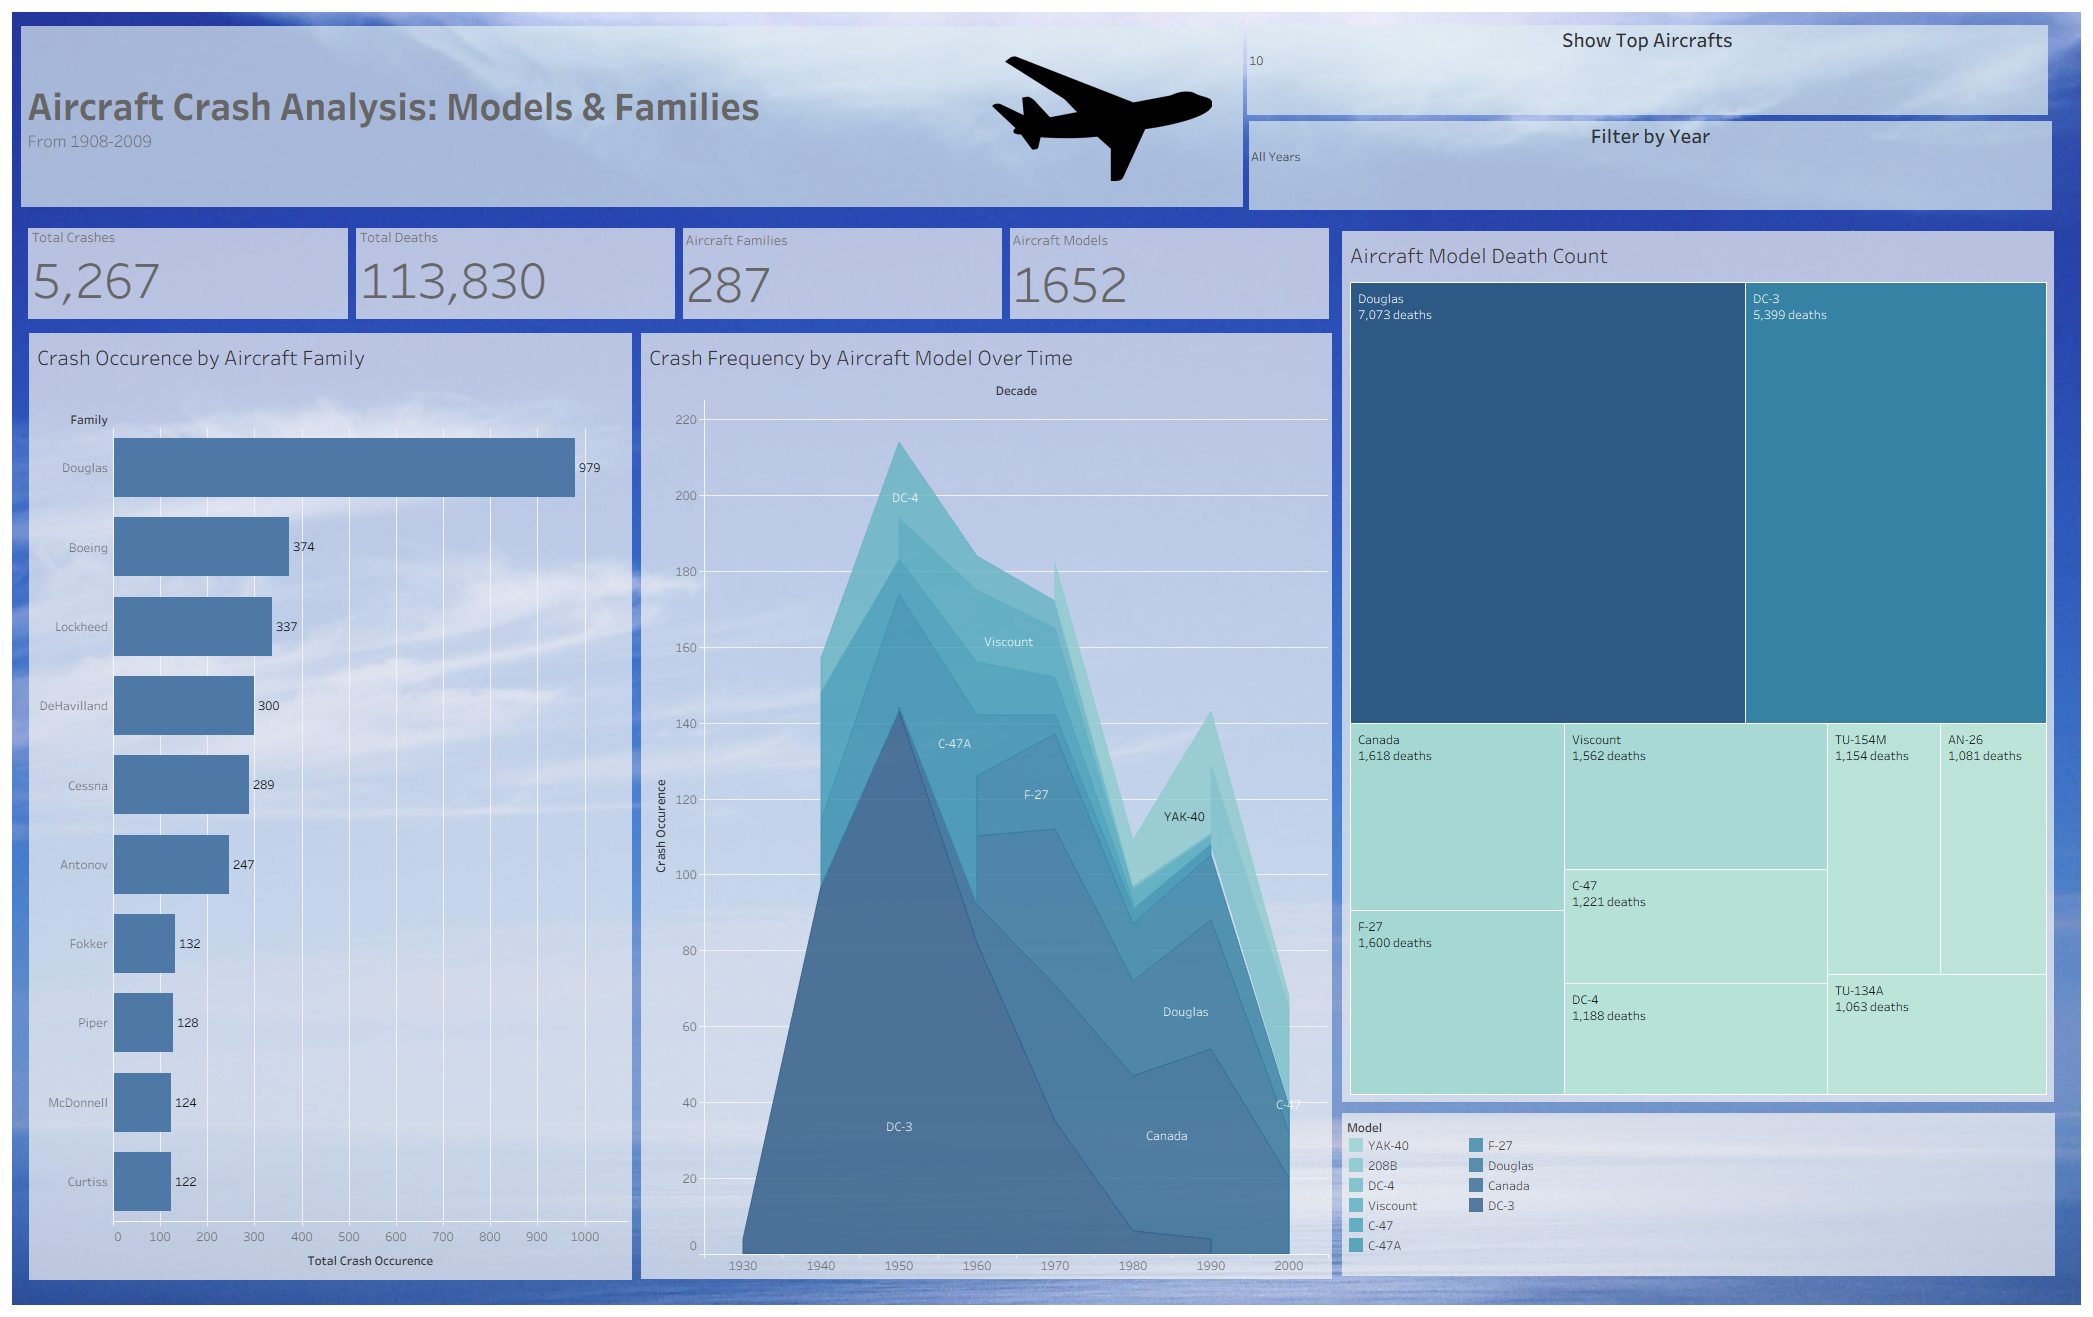

This screenshot's page, from the dashboard's own definition file:
{"tool":"tableau","page":{"name":"Q1 Dashboard","canvas":[1000,1000],"units":"permille","ordinal":0},"visuals":[{"type":"image","param":"Image/1266629-blue-sky-desktop-wallpaper-2560x1600-images.jpg","box":[3.8,6.2,992.4,987.6]},{"type":"parameter","param":"[Parameters].[Model Parameter]","box":[595.8,19.4,382.7,68.1]},{"type":"text","box":[10.2,19.5,583.9,137.8]},{"type":"image","param":"Image/Airplane_silhouette_S.png","box":[473.8,42.5,126.9,95.3]},{"type":"parameter","param":"[Parameters].[Parameter 1]","box":[596.8,92.1,383.7,67.3]},{"type":"worksheet","title":"Total Crashes","mark":"Automatic","box":[11.5,170.3,156.7,75.1]},{"type":"worksheet","title":"Total Deaths","mark":"Automatic","box":[168.2,170.3,156.2,75.1]},{"type":"text","box":[324.4,170.3,156.2,75.1]},{"type":"text","box":[480.7,170.3,156.2,75.1]},{"type":"worksheet","title":"Q1.1","mark":"Automatic","box":[641,175.7,340.4,661.3]},{"type":"worksheet","title":"Q1.0","mark":"Automatic","rows":["Calculation_496521908714770444 - Split 1"],"cols":["Sheet 1_09DF39BCF28D42AB8A171AA09CCD639A"],"box":[13.9,253.1,288.1,719]},{"type":"worksheet","title":"Q1.2","mark":"Area","rows":["Sheet 1_09DF39BCF28D42AB8A171AA09CCD639A"],"cols":["Calculation_496521908723781647"],"box":[306.3,253.1,330.2,718.3]},{"type":"legend","title":"Q1.2","param":"[federated.0e77pkq0gujv2219s9nzw0dl3phl].[none:Calculation_496521908714770444 - ","box":[641,845,340.9,124]}]}

Visuals, with their boxes on the dashboard's canvas, which has no fixed pixel size, in thousandths of its width and height (x1, y1, x2, y2). These are canvas units, not pixel positions in the 2093x1317 screenshot, which may show the page scaled, cropped or inside an application window:
image: 4,6,996,994
parameter: 596,19,978,88
text: 10,20,594,157
image: 474,42,601,138
parameter: 597,92,980,159
"Total Crashes" worksheet: 12,170,168,245
"Total Deaths" worksheet: 168,170,324,245
text: 324,170,481,245
text: 481,170,637,245
"Q1.1" worksheet: 641,176,981,837
"Q1.0" worksheet: 14,253,302,972
"Q1.2" worksheet (Area marks): 306,253,636,971
"Q1.2" legend: 641,845,982,969
